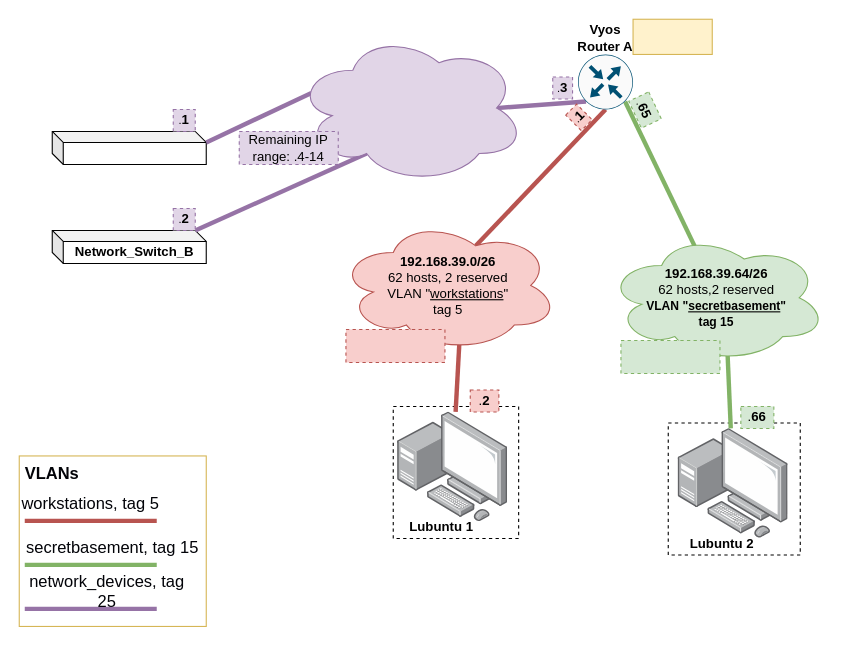
Some shapes in this 846 by 646 pixel diagram are drawn without their labels. Each missing label, with the box of its shape:
10.08.83.0/28 16 hosts, 2 reserved VLAN "network_devices" tag 25: (294, 31, 525, 184)
eth01 VIF: 5 , 15 , 25: (632, 18, 712, 54)
Network_Switch_A: (51, 130, 206, 164)
Remaining IP range: .3 - 62: (345, 328, 445, 362)
Remaining IP range: .67 - 126: (620, 339, 720, 373)
